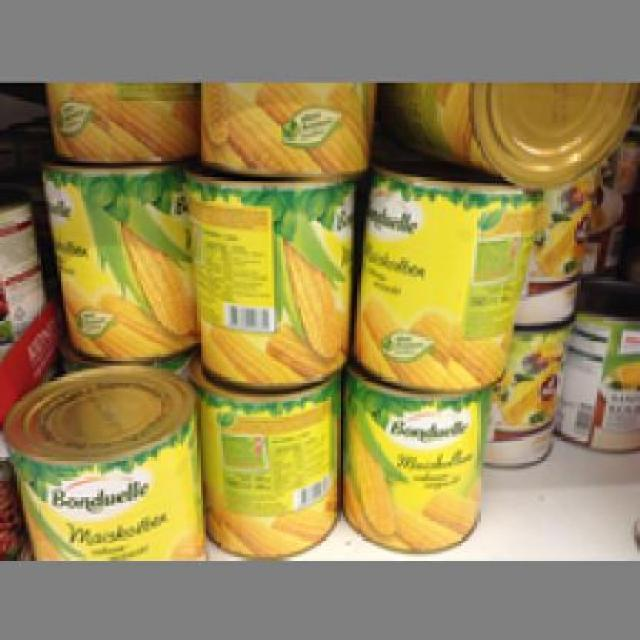Corn: (348, 157, 528, 386), (180, 160, 354, 389), (0, 363, 200, 551), (32, 160, 195, 357), (372, 82, 634, 188), (198, 372, 342, 558), (346, 366, 480, 551)
